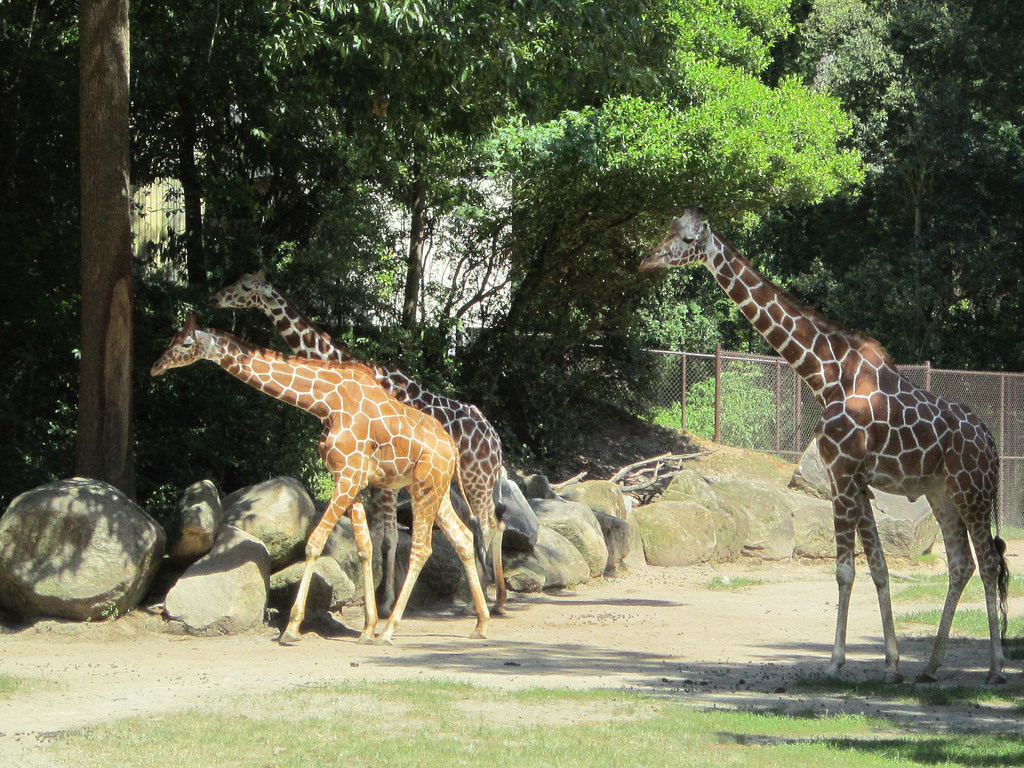giraffe: (619, 180, 1017, 715), (122, 324, 476, 636), (230, 258, 550, 554)
